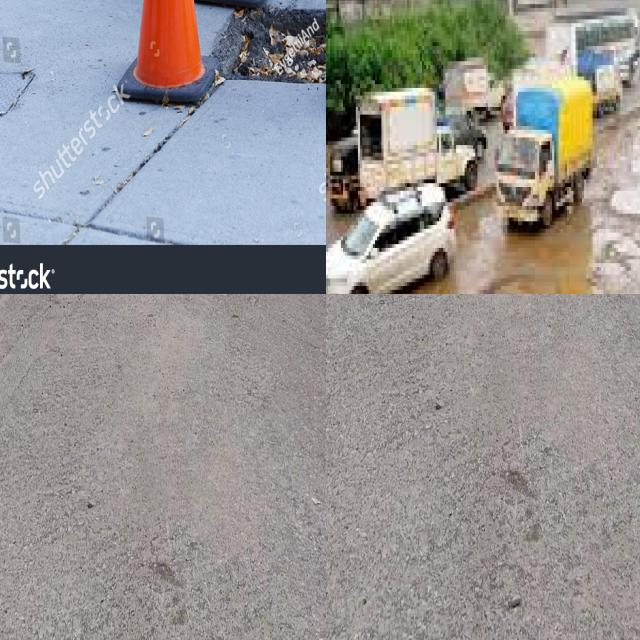Pothole: (207, 7, 326, 91), (612, 185, 640, 217)
